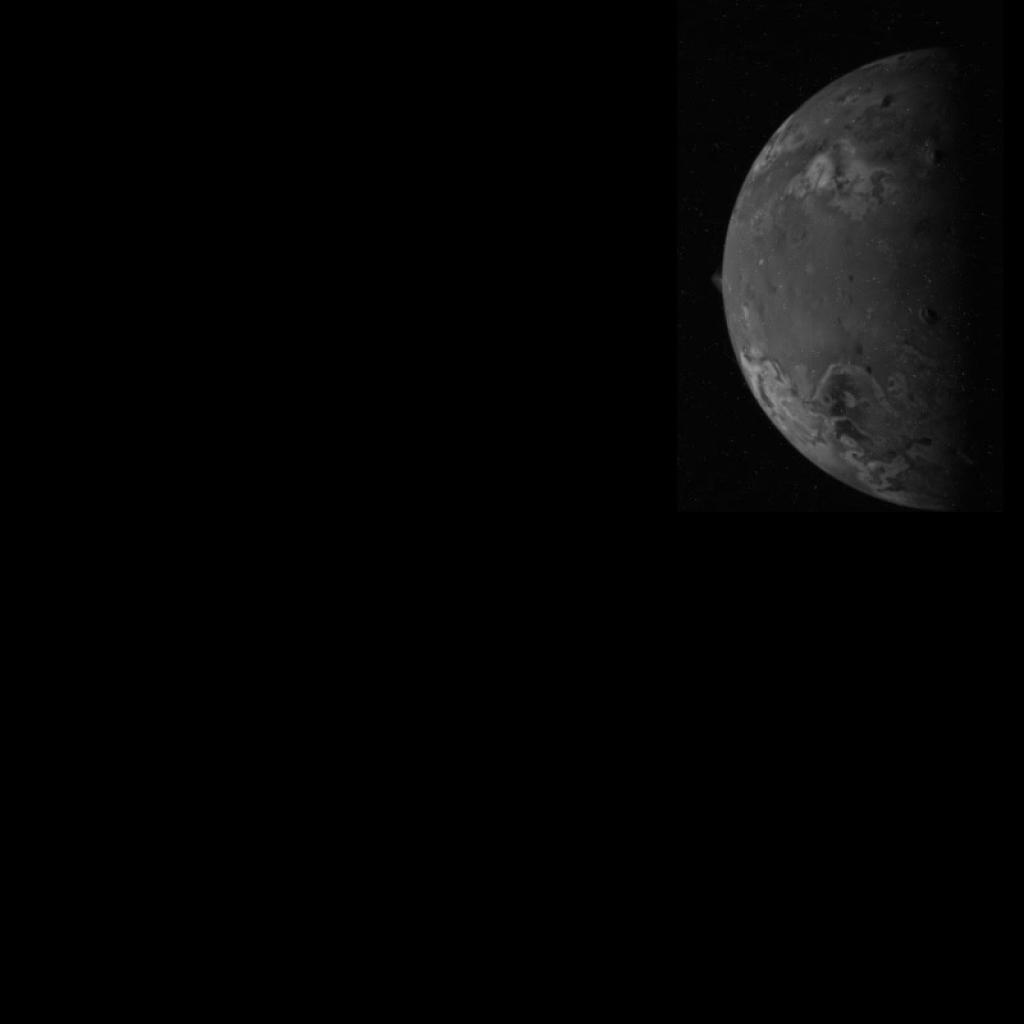plumes: (712, 268, 726, 294)
